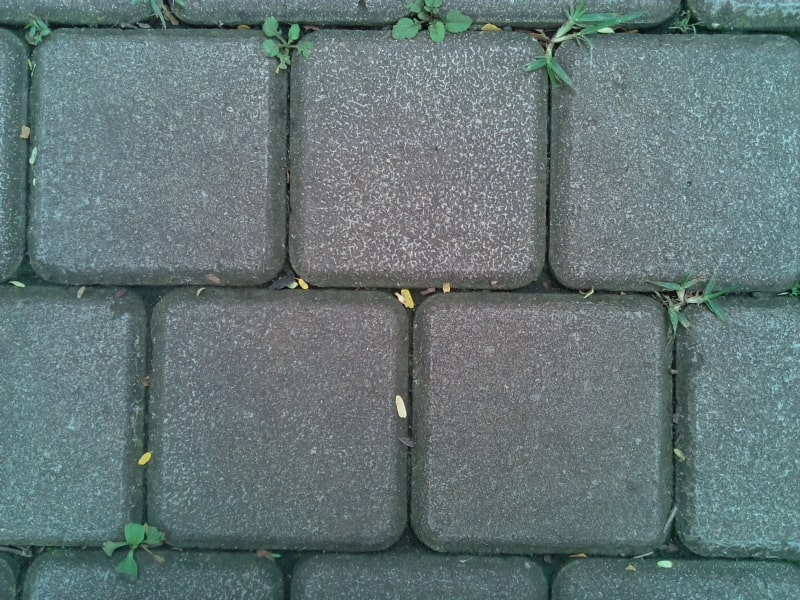Weed: (532, 6, 626, 85), (650, 270, 729, 329), (102, 521, 167, 577), (388, 1, 472, 44), (257, 16, 312, 69), (23, 16, 52, 49), (674, 11, 700, 37)
